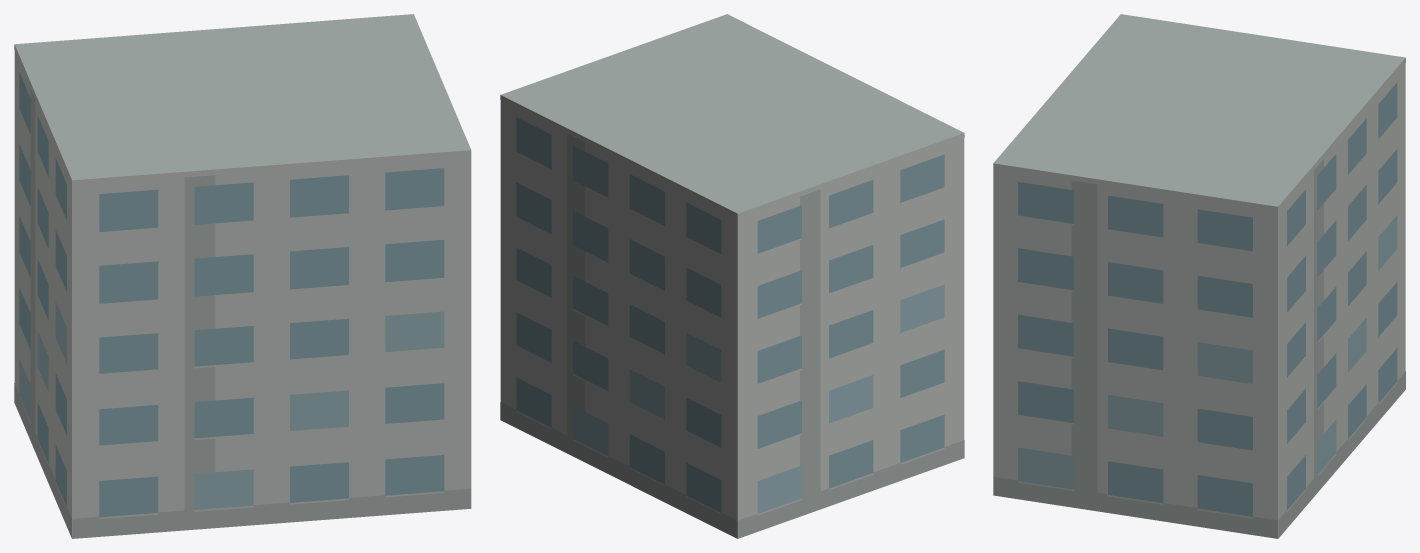
Rendered from residential-f0394c0d-1f1c-413a-9ada-07360d0120da.glb.
3 views of the same model, side by side, from view 1: azimuth 30°, elevation 25°; view 2: azimuth 150°, elevation 25°; view 3: azimuth 270°, elevation 25° (orthographic). The views are drawn at different scales.
Visible parts, largest first — view 1: residential-f0394c0d-1f1c-413a-9ada-07360d0120da.tmp; view 2: residential-f0394c0d-1f1c-413a-9ada-07360d0120da.tmp; view 3: residential-f0394c0d-1f1c-413a-9ada-07360d0120da.tmp.
Boxes of the visible parts, <box> form: residential-f0394c0d-1f1c-413a-9ada-07360d0120da.tmp: <box>14,14,471,538</box>; residential-f0394c0d-1f1c-413a-9ada-07360d0120da.tmp: <box>500,14,964,538</box>; residential-f0394c0d-1f1c-413a-9ada-07360d0120da.tmp: <box>993,14,1405,538</box>.
Size of the model in its own units: 19 by 15.25 by 17.18.
